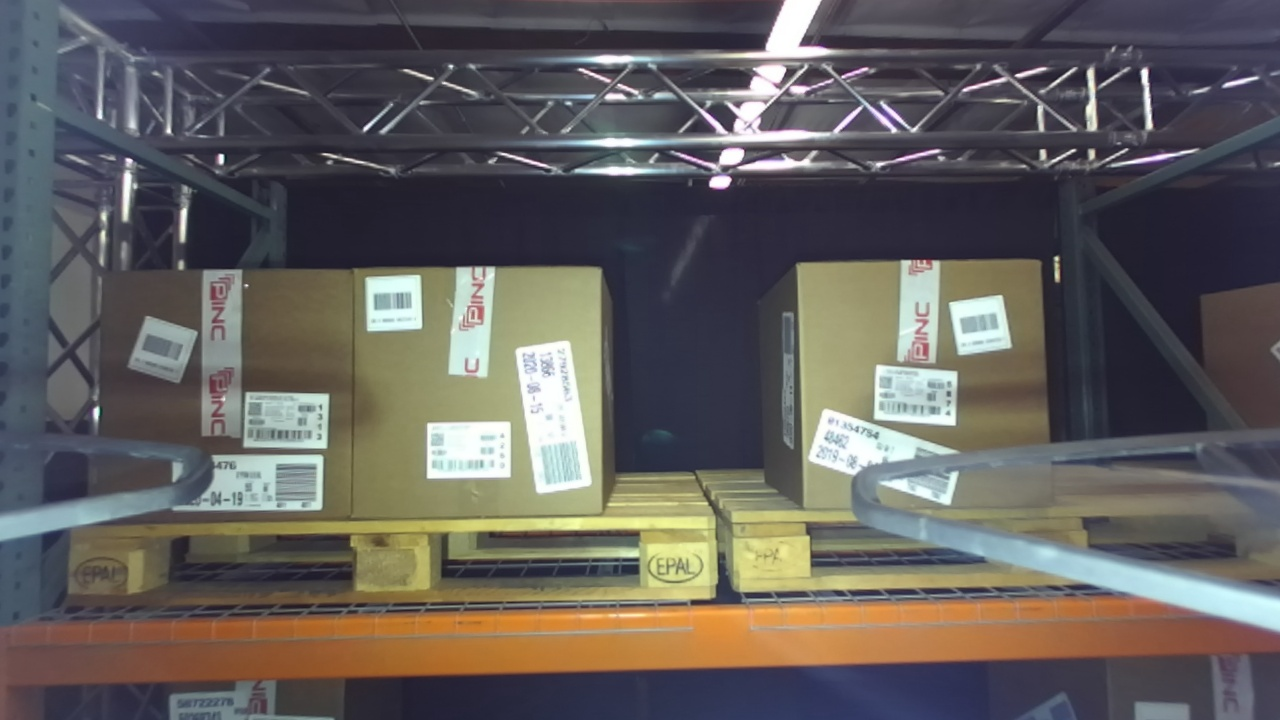box: (77, 244, 377, 548), (779, 241, 1085, 537), (339, 239, 619, 551)
